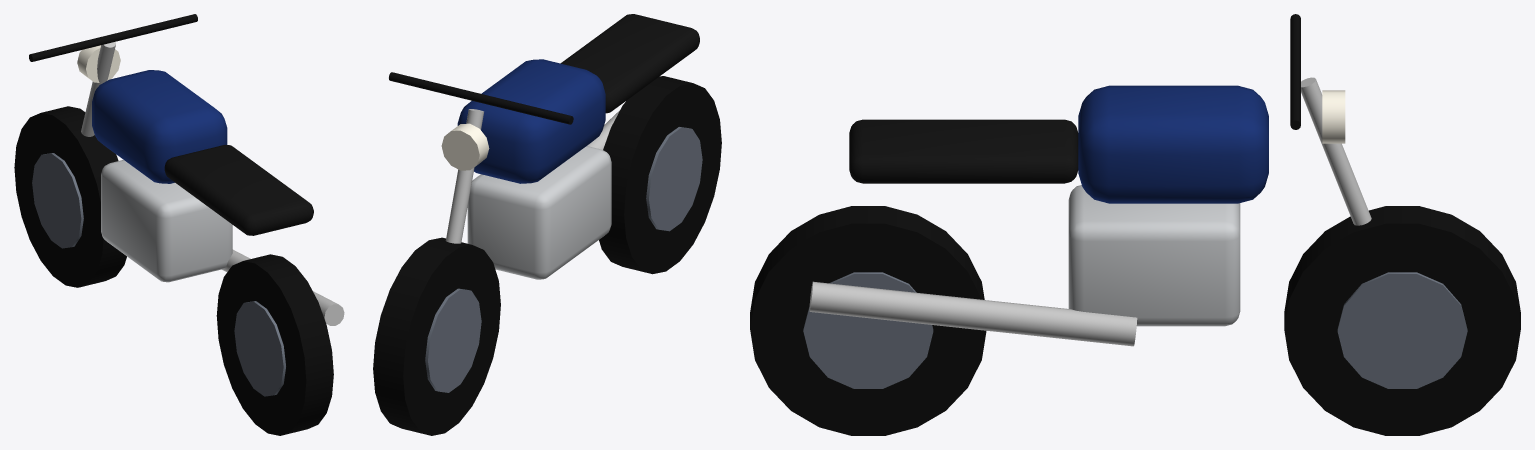
File: vehicle.bike.motorbike.glb
3 renders of one model, left to right at view 1: azimuth 30°, elevation 25°; view 2: azimuth 150°, elevation 25°; view 3: azimuth 270°, elevation 25°, orthographic. The views are drawn at different scales.
Visible parts, largest first — view 1: main__rubber, main__aluminium, main__car_blue, main__leather_black, main__steel_painted, main__steel_stainless, main__plastic_black, main__light_emitter; view 2: main__rubber, main__aluminium, main__car_blue, main__steel_painted, main__leather_black, main__steel_stainless, main__plastic_black, main__light_emitter; view 3: main__rubber, main__car_blue, main__aluminium, main__steel_painted, main__leather_black, main__steel_stainless, main__light_emitter, main__plastic_black.
Part boxes in pixels (x1,y1,x2,y2): main__rubber: (14,106,333,435); main__aluminium: (101,160,232,282); main__car_blue: (92,70,227,183); main__leather_black: (164,145,313,235); main__steel_painted: (32,153,285,396); main__steel_stainless: (81,41,344,325); main__plastic_black: (29,14,197,61); main__light_emitter: (77,45,120,82); main__rubber: (373,76,721,435); main__aluminium: (467,146,611,279); main__car_blue: (457,59,605,183); main__steel_painted: (425,127,702,392); main__leather_black: (560,14,699,113); main__steel_stainless: (445,109,619,243); main__plastic_black: (389,72,573,124); main__light_emitter: (441,123,489,170); main__rubber: (750,206,1520,435); main__car_blue: (1078,85,1268,203); main__aluminium: (1068,185,1240,326); main__steel_painted: (803,272,1467,388); main__leather_black: (849,119,1078,183); main__steel_stainless: (809,77,1371,346); main__light_emitter: (1322,90,1345,143); main__plastic_black: (1290,14,1300,129).
Size of the model in its own units: 0.66 by 1.04 by 2.02.
